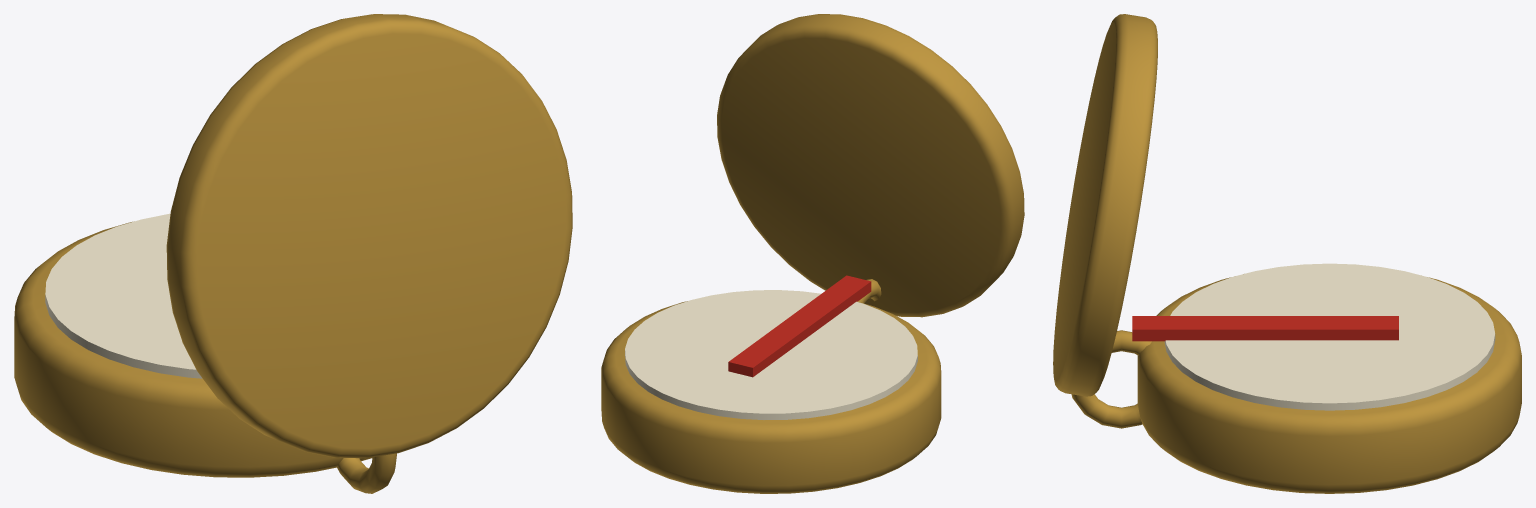
File: compass.glb
3 renders of one model, left to right at view 1: azimuth 30°, elevation 25°; view 2: azimuth 150°, elevation 25°; view 3: azimuth 270°, elevation 25°, orthographic. The views are drawn at different scales.
Visible parts, largest first — view 1: lid.001, case, face; view 2: lid.001, case, face, needle; view 3: case, face, lid.001, needle.
Boxes of the visible parts, left/top/right/bottom form: lid.001: left=166, top=14, right=572, bottom=458; case: left=14, top=221, right=396, bottom=493; face: left=45, top=213, right=202, bottom=378; lid.001: left=717, top=14, right=1024, bottom=317; case: left=601, top=279, right=941, bottom=493; face: left=625, top=290, right=917, bottom=419; needle: left=728, top=275, right=871, bottom=377; case: left=1071, top=277, right=1521, bottom=493; face: left=1164, top=263, right=1495, bottom=410; lid.001: left=1053, top=14, right=1157, bottom=396; needle: left=1132, top=316, right=1398, bottom=341.
Size of the model in its own units: 0.072 by 0.0818 by 0.0878.
